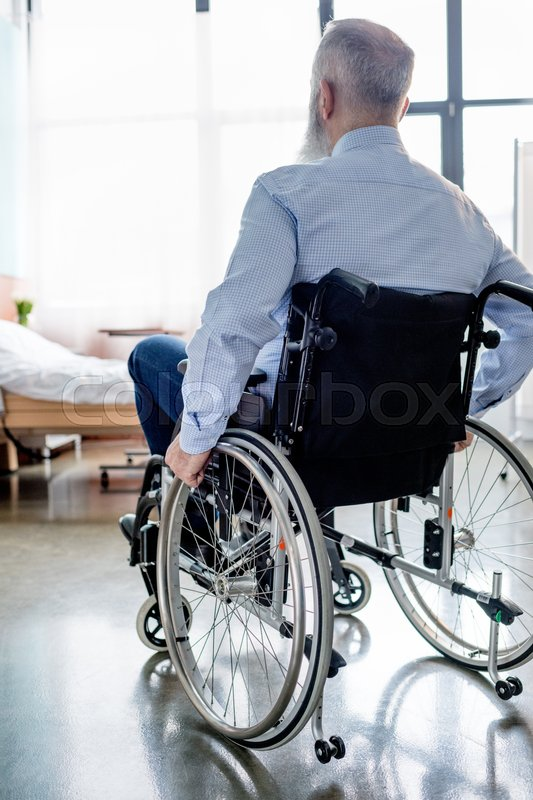wheelchair: (130, 16, 533, 762)
